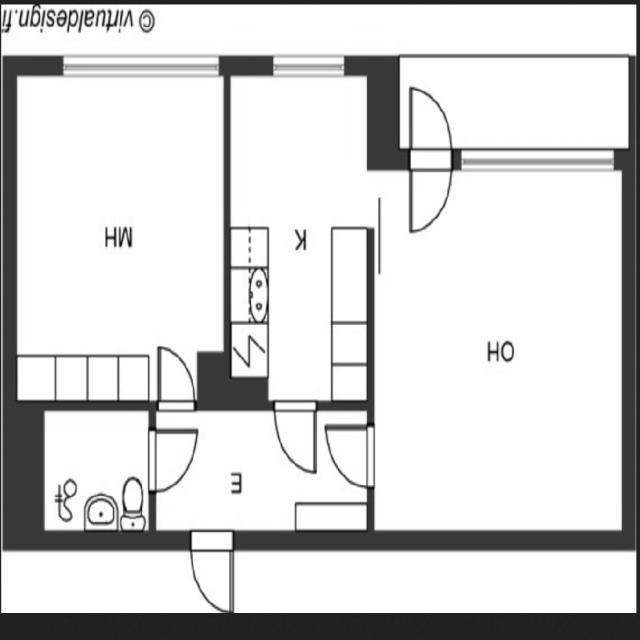door: (404, 82, 457, 236), (267, 390, 324, 482), (321, 413, 380, 499), (186, 523, 239, 614), (146, 337, 200, 421), (146, 420, 202, 495)
window: (461, 144, 616, 185), (262, 44, 359, 87)
zone: (376, 153, 630, 541), (10, 62, 228, 401), (222, 63, 373, 394), (154, 390, 368, 541), (18, 408, 155, 540)
